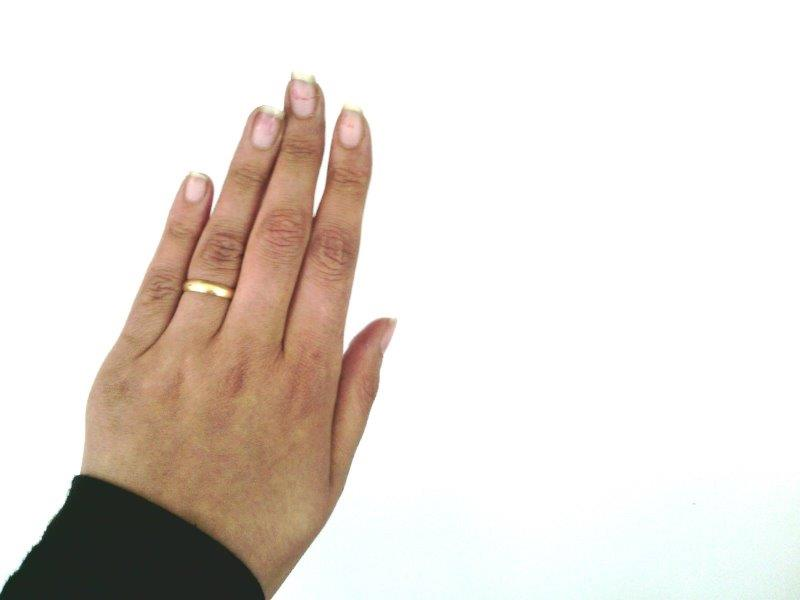hand: (86, 72, 396, 532)
